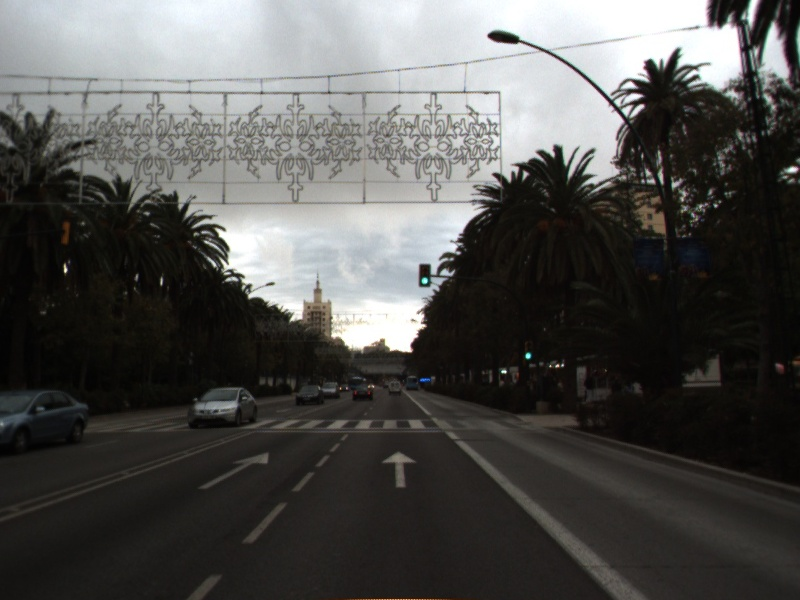STRAIGHT: (195, 449, 271, 491), (380, 448, 419, 489)
